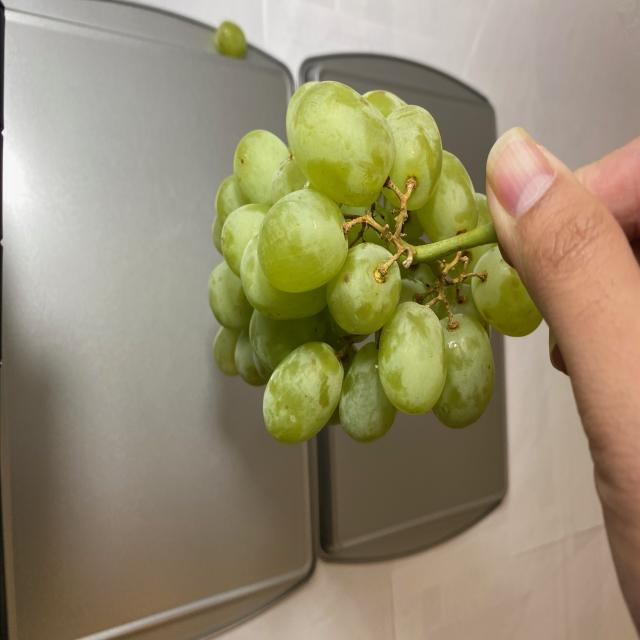grapes: (202, 76, 546, 450)
